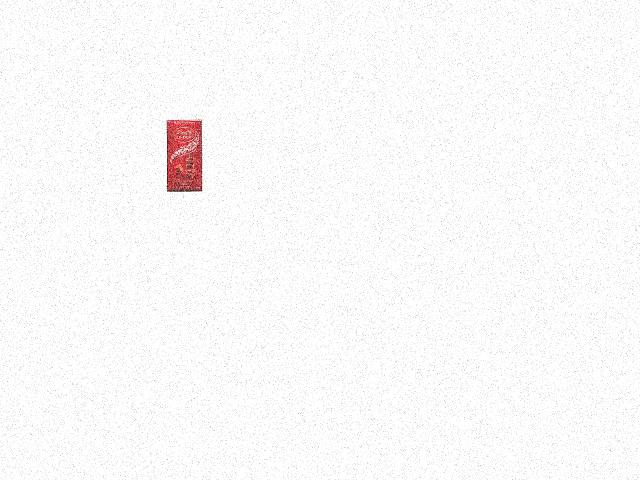chocolate: (165, 118, 204, 197)
